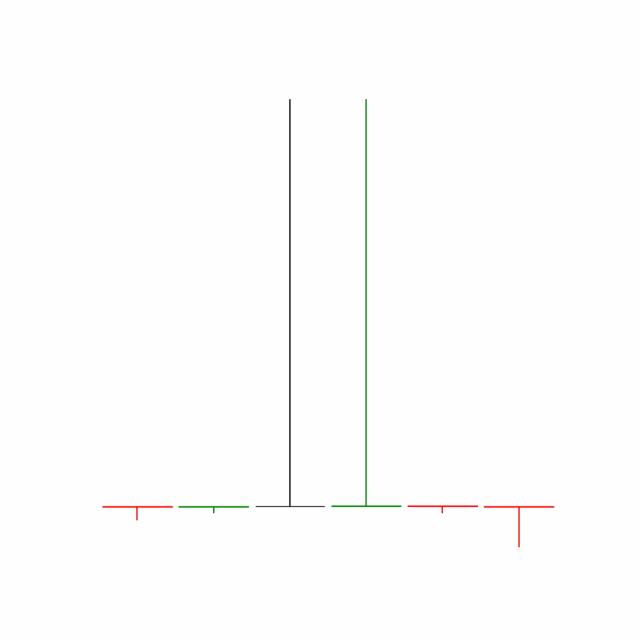Hammer: (403, 505, 481, 514)
